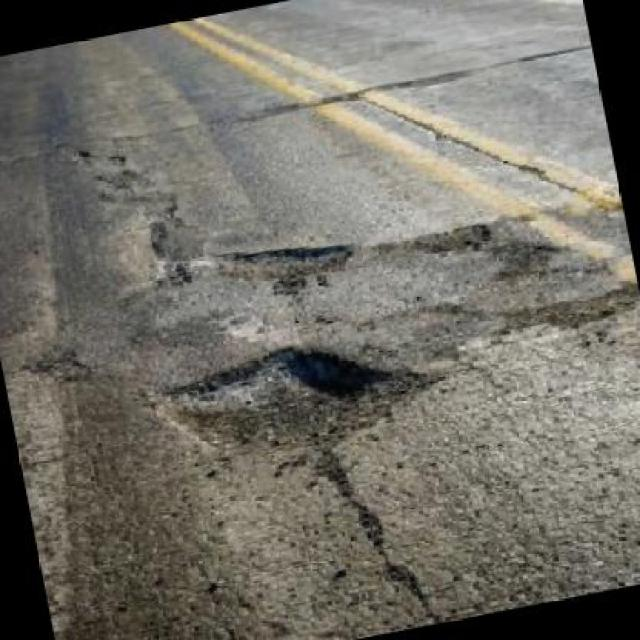pothole: (144, 318, 447, 482), (492, 274, 640, 348), (212, 225, 366, 292), (401, 214, 501, 260)
